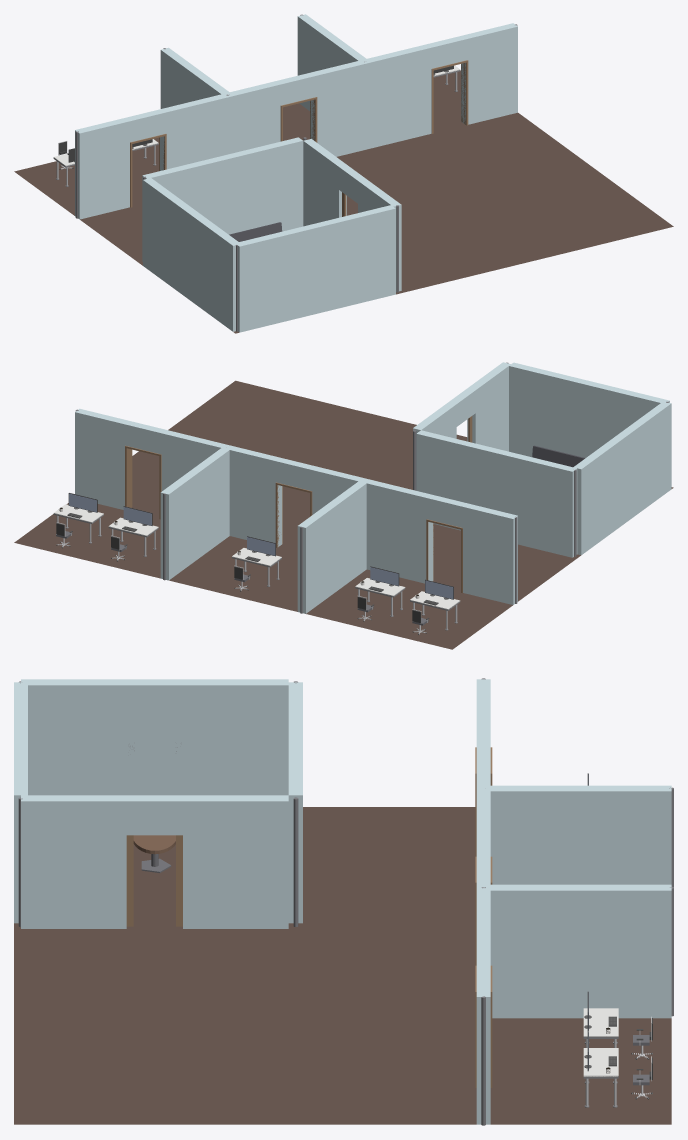
Rendered from office_v64.glb.
The picture shows the model from 3 angles, top to bottom: view 1: azimuth 30°, elevation 25°; view 2: azimuth 150°, elevation 25°; view 3: azimuth 270°, elevation 25°; orthographic projection. The views are drawn at different scales.
Parts seen in each view (by area): view 1: 平面, MeetingRoom_South, 立方體.002, MeetingRoom_North, MeetingRoom_West, 立方體.001, 立方體.003, 立方體, MeetingRoom_East_North, 立方體.008, 立方體.007, MeetingRoom_East_South (+4 smaller); view 2: 平面, MeetingRoom_North, MeetingRoom_South, MeetingRoom_West, 立方體.001, 立方體.002, 立方體.007, 立方體.008, 立方體, 立方體.003, MeetingRoom_East_South, MeetingRoom_East_North (+5 smaller); view 3: 平面, MeetingRoom_West, 立方體.008, 立方體.007, MeetingRoom_East_North, MeetingRoom_East_South, MeetingRoom_North, MeetingRoom_East_Top, MeetingRoom_South, 立方體.003, 立方體.001, 立方體.002 (+5 smaller).
Boxes of the visible parts, x1=… form: 平面: x1=14, y1=70, x2=673, y2=333; MeetingRoom_South: x1=235, y1=205, x2=395, y2=332; 立方體.002: x1=310, y1=44, x2=433, y2=156; MeetingRoom_North: x1=142, y1=137, x2=303, y2=261; MeetingRoom_West: x1=143, y1=178, x2=240, y2=331; 立方體.001: x1=160, y1=80, x2=282, y2=170; 立方體.003: x1=461, y1=23, x2=517, y2=124; 立方體: x1=75, y1=117, x2=131, y2=219; MeetingRoom_East_North: x1=303, y1=139, x2=346, y2=226; 立方體.008: x1=297, y1=14, x2=366, y2=110; 立方體.007: x1=160, y1=47, x2=229, y2=108; MeetingRoom_East_South: x1=358, y1=179, x2=401, y2=291; 平面: x1=14, y1=380, x2=673, y2=649; MeetingRoom_North: x1=416, y1=430, x2=577, y2=557; MeetingRoom_South: x1=509, y1=362, x2=669, y2=457; MeetingRoom_West: x1=573, y1=401, x2=671, y2=555; 立方體.001: x1=310, y1=466, x2=433, y2=583; 立方體.002: x1=160, y1=429, x2=282, y2=546; 立方體.007: x1=297, y1=481, x2=366, y2=613; 立方體.008: x1=160, y1=448, x2=229, y2=580; 立方體: x1=461, y1=503, x2=517, y2=604; 立方體.003: x1=75, y1=408, x2=131, y2=509; MeetingRoom_East_South: x1=467, y1=362, x2=510, y2=451; MeetingRoom_East_North: x1=413, y1=402, x2=456, y2=438; 平面: x1=14, y1=807, x2=671, y2=1124; MeetingRoom_West: x1=21, y1=679, x2=288, y2=795; 立方體.008: x1=490, y1=884, x2=671, y2=1018; 立方體.007: x1=490, y1=785, x2=671, y2=884; MeetingRoom_East_North: x1=183, y1=795, x2=288, y2=928; MeetingRoom_East_South: x1=21, y1=795, x2=126, y2=928; MeetingRoom_North: x1=288, y1=682, x2=302, y2=923; MeetingRoom_East_Top: x1=126, y1=795, x2=182, y2=835; MeetingRoom_South: x1=14, y1=682, x2=27, y2=923; 立方體.003: x1=476, y1=959, x2=490, y2=1124; 立方體.001: x1=476, y1=741, x2=490, y2=826; 立方體.002: x1=476, y1=850, x2=490, y2=935.
Bounding box in the file's own units: 16.1 × 3 × 14.05.
